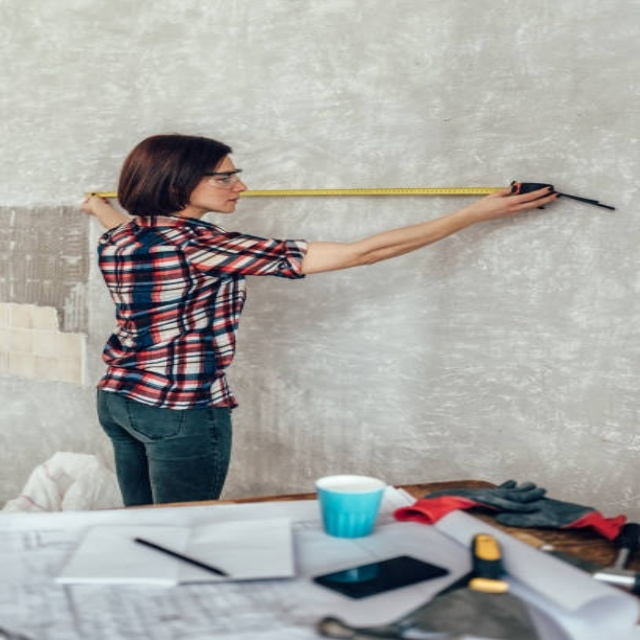Gafas: (207, 169, 246, 189)
Sin_guantes: (478, 180, 565, 218)
Sin_mascara: (213, 190, 248, 215)
